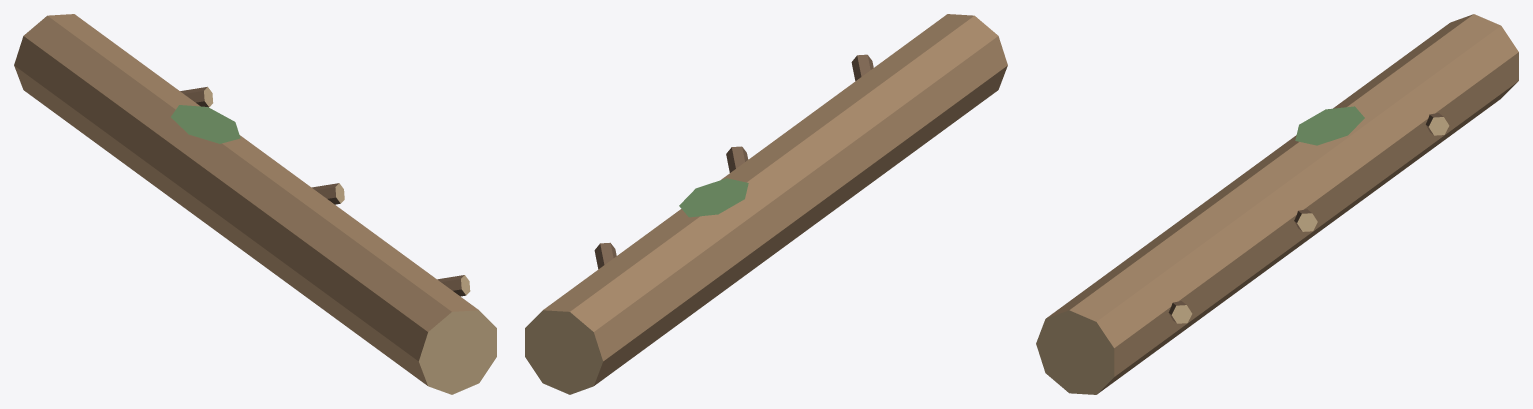
The model's file is edge_log_border_2m.glb.
3 renders of one model, left to right at view 1: azimuth 30°, elevation 25°; view 2: azimuth 150°, elevation 25°; view 3: azimuth 330°, elevation 25°, orthographic.
Visible parts, largest first — view 1: edge_log_border_2m; view 2: edge_log_border_2m; view 3: edge_log_border_2m.
Part boxes in pixels (box(x1,y1,x2,y2)): edge_log_border_2m: box(14, 14, 496, 394); edge_log_border_2m: box(525, 14, 1007, 394); edge_log_border_2m: box(1036, 14, 1518, 394).
Size of the model in its own units: 0.2954 by 0.2293 by 2.
